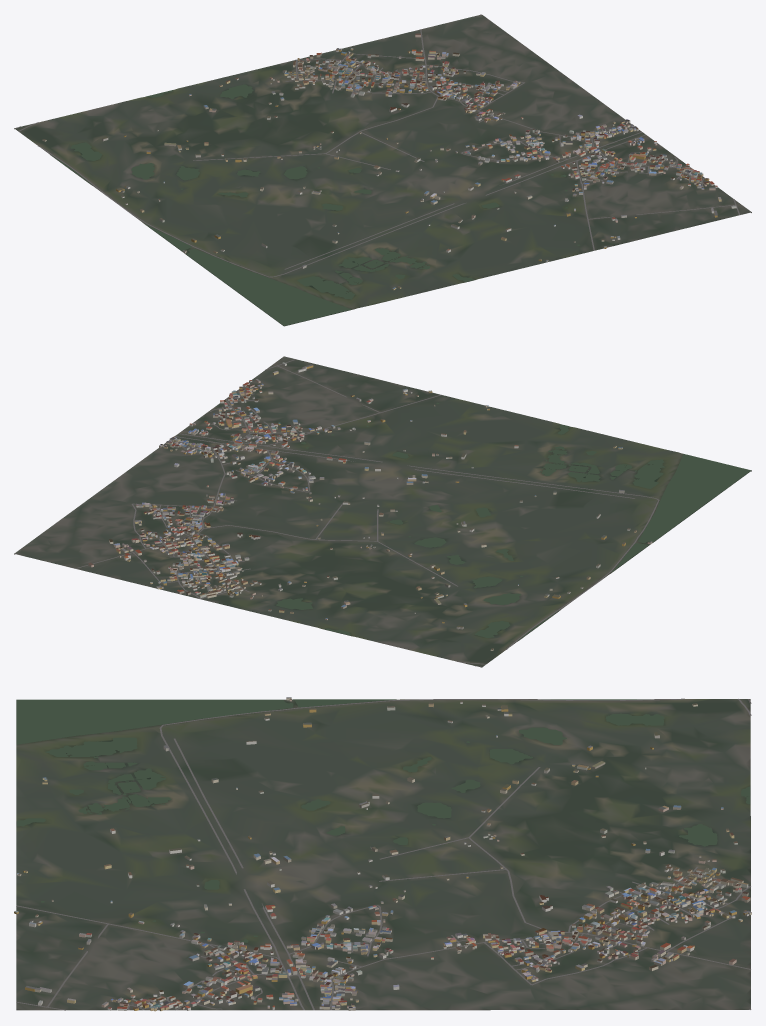
3 views of the same model, one above another, from view 1: azimuth 30°, elevation 25°; view 2: azimuth 150°, elevation 25°; view 3: azimuth 270°, elevation 25° (orthographic). The views are drawn at different scales.
Parts seen in each view (by area): view 1: ground, buildings, water, roads; view 2: ground, buildings, water, roads; view 3: ground, buildings, water, roads.
Boxes of the visible parts, box(x1,y1,x2,y2) form: ground: box(14, 15, 751, 326); buildings: box(42, 33, 736, 290); water: box(51, 84, 579, 325); roads: box(15, 14, 740, 277); ground: box(14, 356, 751, 667); buildings: box(88, 362, 652, 650); water: box(276, 402, 750, 640); roads: box(14, 359, 659, 666); ground: box(16, 699, 750, 1010); buildings: box(14, 697, 751, 1011); water: box(16, 699, 750, 942); roads: box(16, 698, 751, 1010).
Bounding box in the file's own units: 1408 × 13.57 × 1408.
